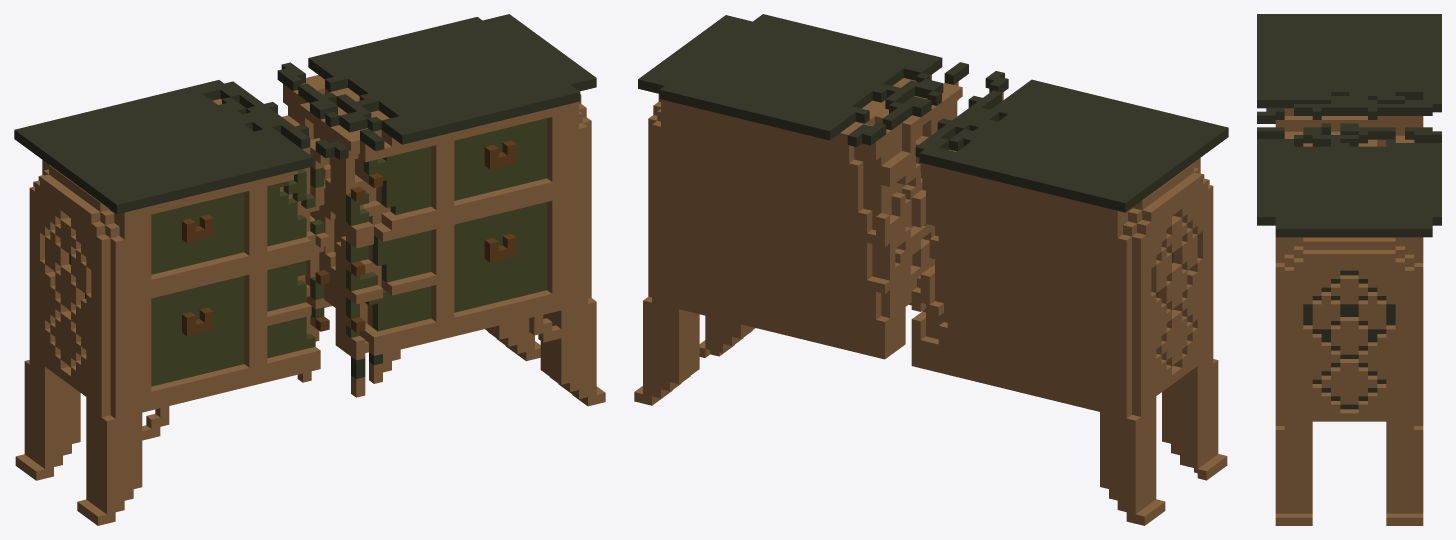
The model's file is Commode 1 brise.obj.
3 renders of one model, left to right at view 1: azimuth 30°, elevation 25°; view 2: azimuth 150°, elevation 25°; view 3: azimuth 270°, elevation 25°, orthographic. The views are drawn at different scales.
Parts seen in each view (by area): view 1: Commode 1 brise; view 2: Commode 1 brise; view 3: Commode 1 brise.
Boxes of the visible parts, x1=… form: Commode 1 brise: x1=14, y1=14, x2=605, y2=525; Commode 1 brise: x1=634, y1=14, x2=1228, y2=525; Commode 1 brise: x1=1257, y1=14, x2=1441, y2=525.
Size of the model in its own units: 57 by 35 by 20.
1 material, 1 textured.
